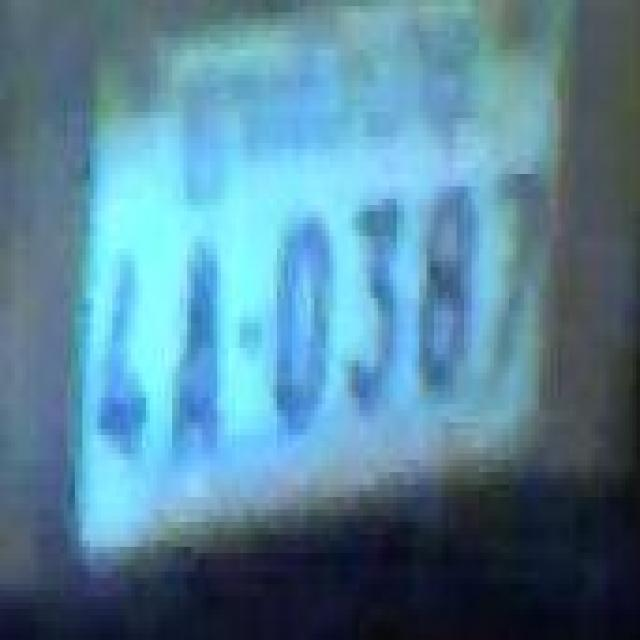Preah_Sihanouk: (176, 19, 482, 190)
